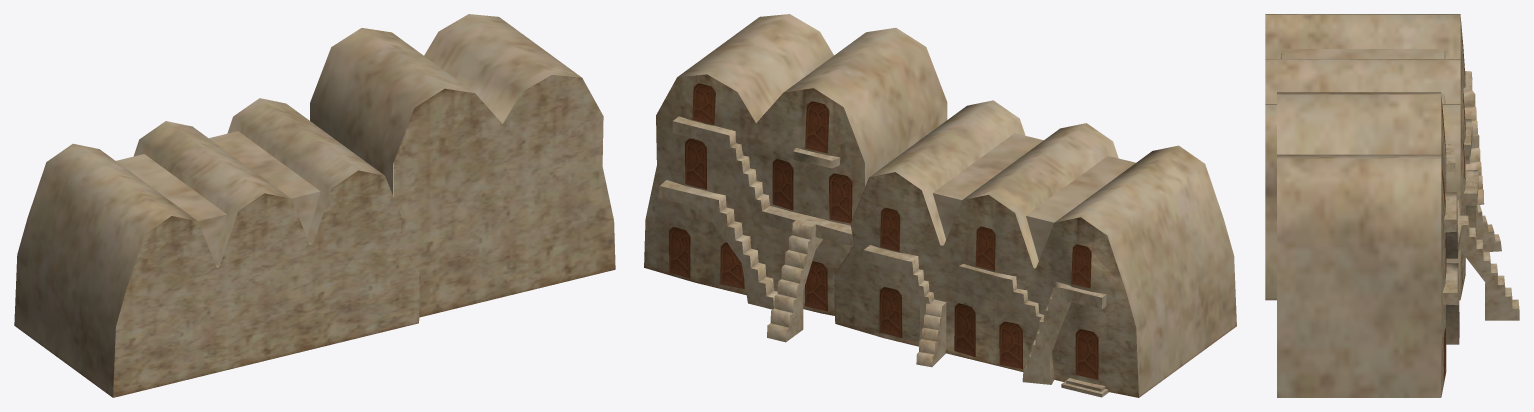
File: thm_tato_block_bldg_32x16_s03_l2.fbx
3 renders of one model, left to right at view 1: azimuth 30°, elevation 25°; view 2: azimuth 150°, elevation 25°; view 3: azimuth 270°, elevation 25°, orthographic.
Visible parts, largest first — view 1: mesh_node; view 2: mesh_node; view 3: mesh_node.
Part boxes in pixels (x1,y1,x2,y2): mesh_node: (14,14,615,397); mesh_node: (644,14,1236,397); mesh_node: (1265,14,1519,397).
Size of the model in its own units: 33.68 by 14.2 by 14.76.
